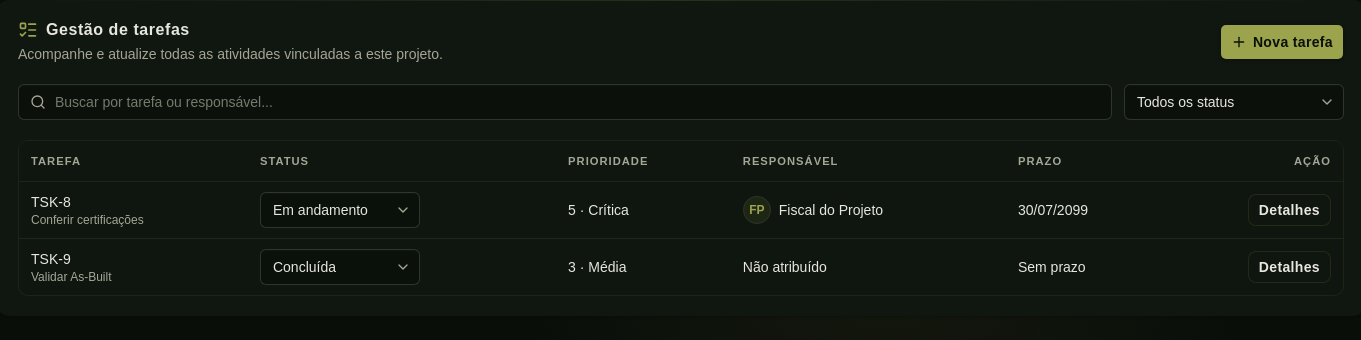
project tasks panels › filtra a aba do projeto e permite alterar o status
Click the dropdown named "Status da TSK-8". click: (340,210)
box: [260,192,420,228]
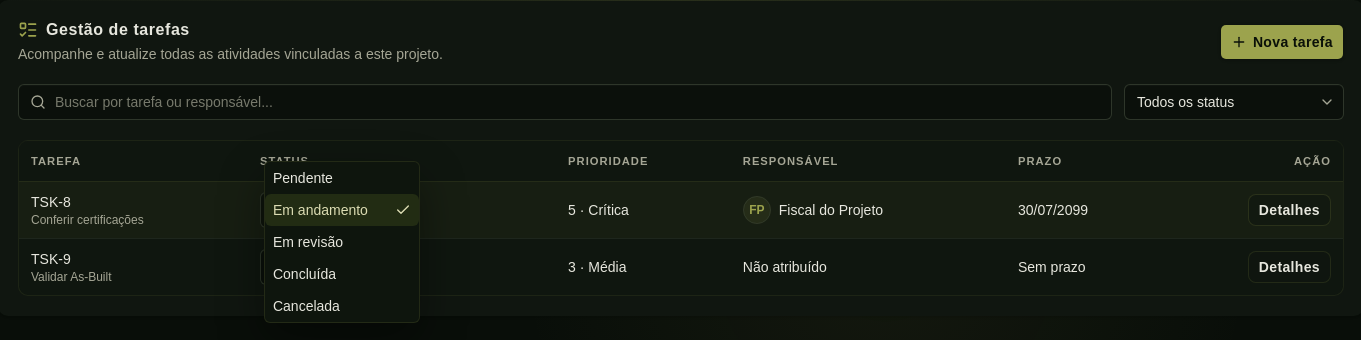
Click the option "Em revisão". click: (308,242)
box: [273,234,343,250]
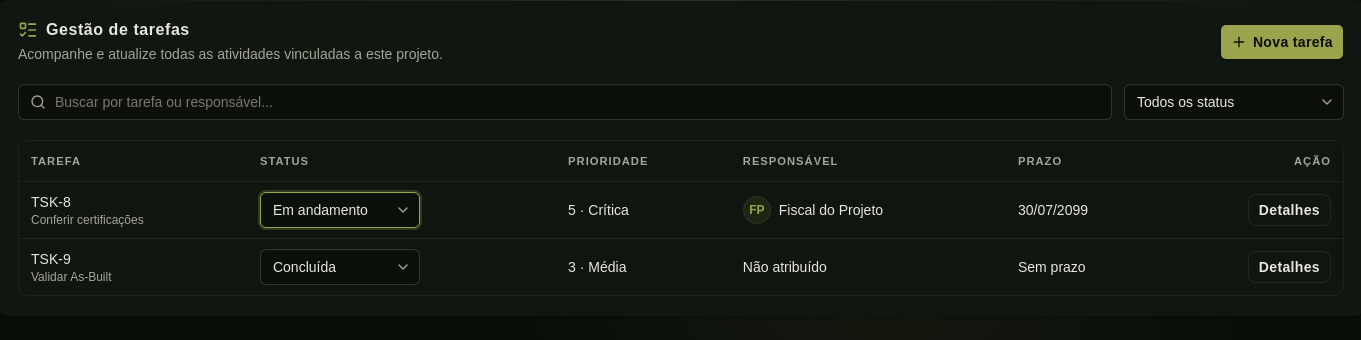
Type "As-Built" into the field named "Buscar tarefas do projeto". click: (565,102)
box: [18,84,1112,120]
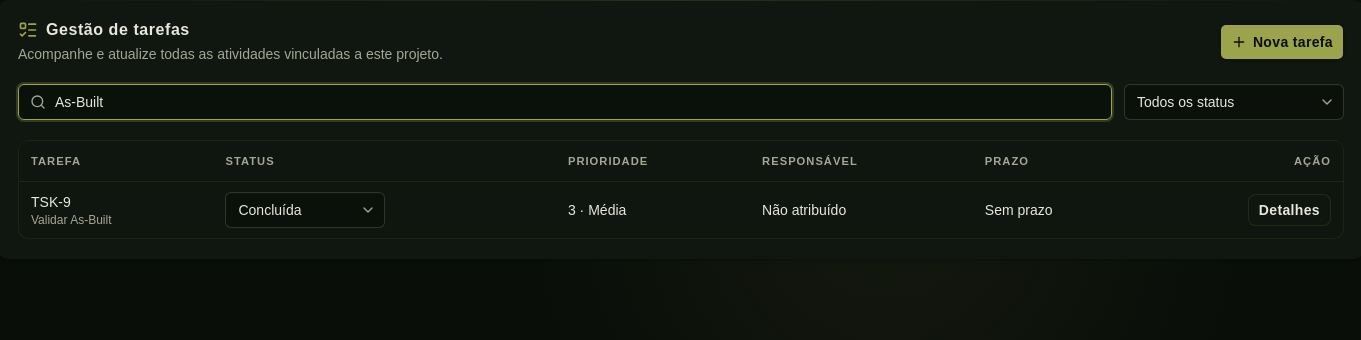
Expected: the text "Validar As-Built" is shown, [31,212,112,226]
Expected: the text "Conferir certificações" is gone
